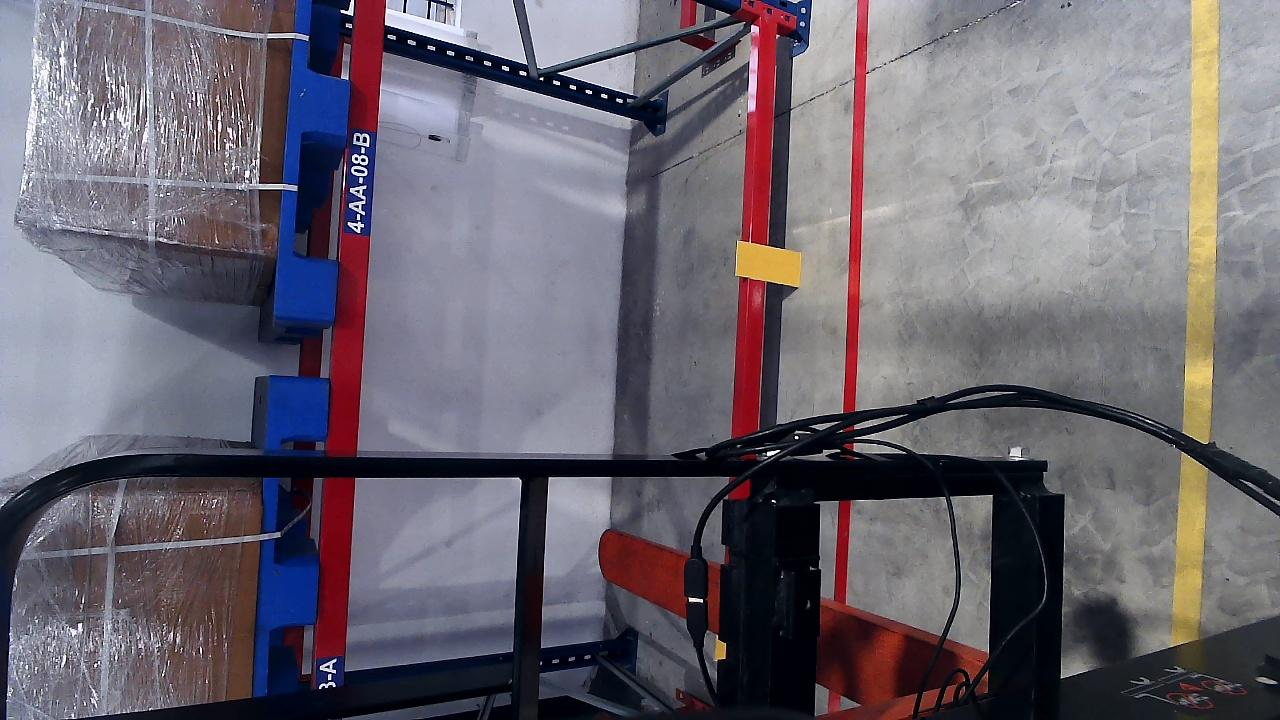h_rack: (324, 0, 390, 696), (735, 11, 781, 438)
orange_strip: (735, 241, 801, 287)
red_line: (842, 4, 869, 413)
small_pallet: (271, 0, 367, 319), (249, 373, 326, 690)
yellow_line: (1180, 6, 1222, 443), (1171, 452, 1210, 645)
